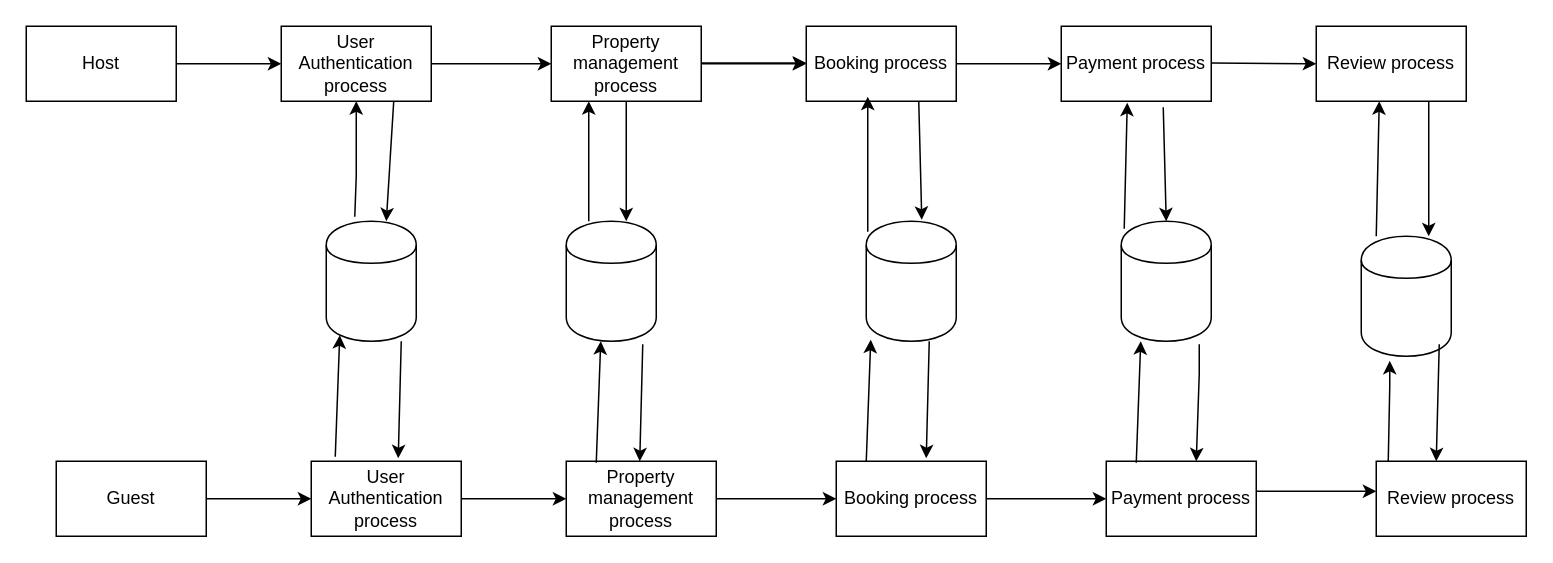
The diagram is 1553 pixels wide and 563 high, and some of its shapes have lost their labels. Each missing label, with the centre of its shape:
Booking Table: (x=910, y=280)
Payment Table: (x=1165, y=280)
Property Table: (x=610, y=280)
Review Table: (x=1405, y=295)
User Table: (x=370, y=280)
